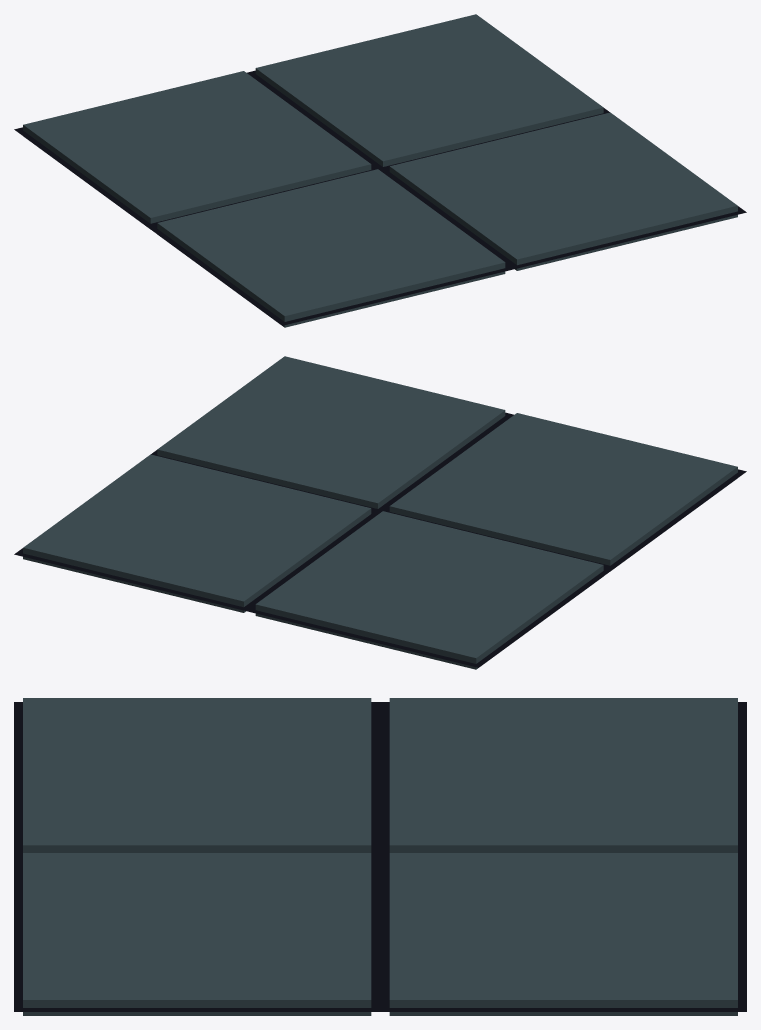
File: 8x8_four_stone_tile.fbx
3 renders of one model, top to bottom at view 1: azimuth 30°, elevation 25°; view 2: azimuth 150°, elevation 25°; view 3: azimuth 270°, elevation 25°, orthographic. The views are drawn at different scales.
Visible parts, largest first — view 1: 8x8_four_stone_tile; view 2: 8x8_four_stone_tile; view 3: 8x8_four_stone_tile.
Part boxes in pixels (x1,y1,x2,y2): 8x8_four_stone_tile: (14,14,746,327); 8x8_four_stone_tile: (14,356,746,669); 8x8_four_stone_tile: (14,698,746,1015).
Bounding box in the file's own units: 800 × 18.99 × 800.
